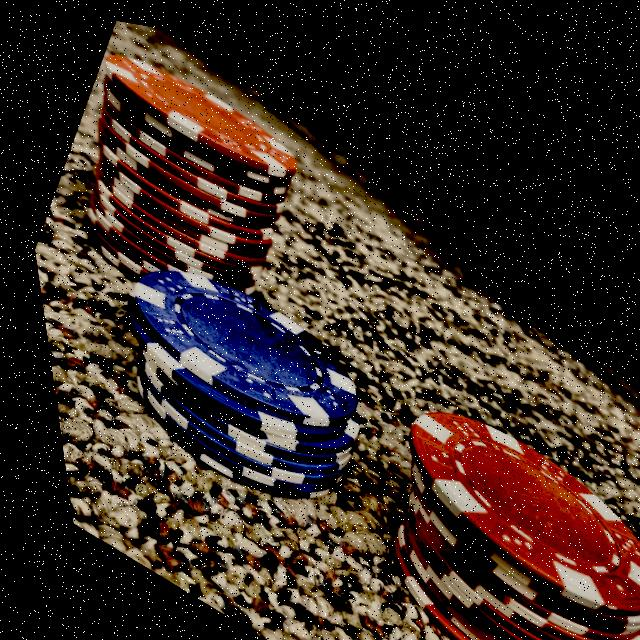Chip: (51, 201, 419, 559), (17, 2, 354, 361), (302, 328, 640, 640)
